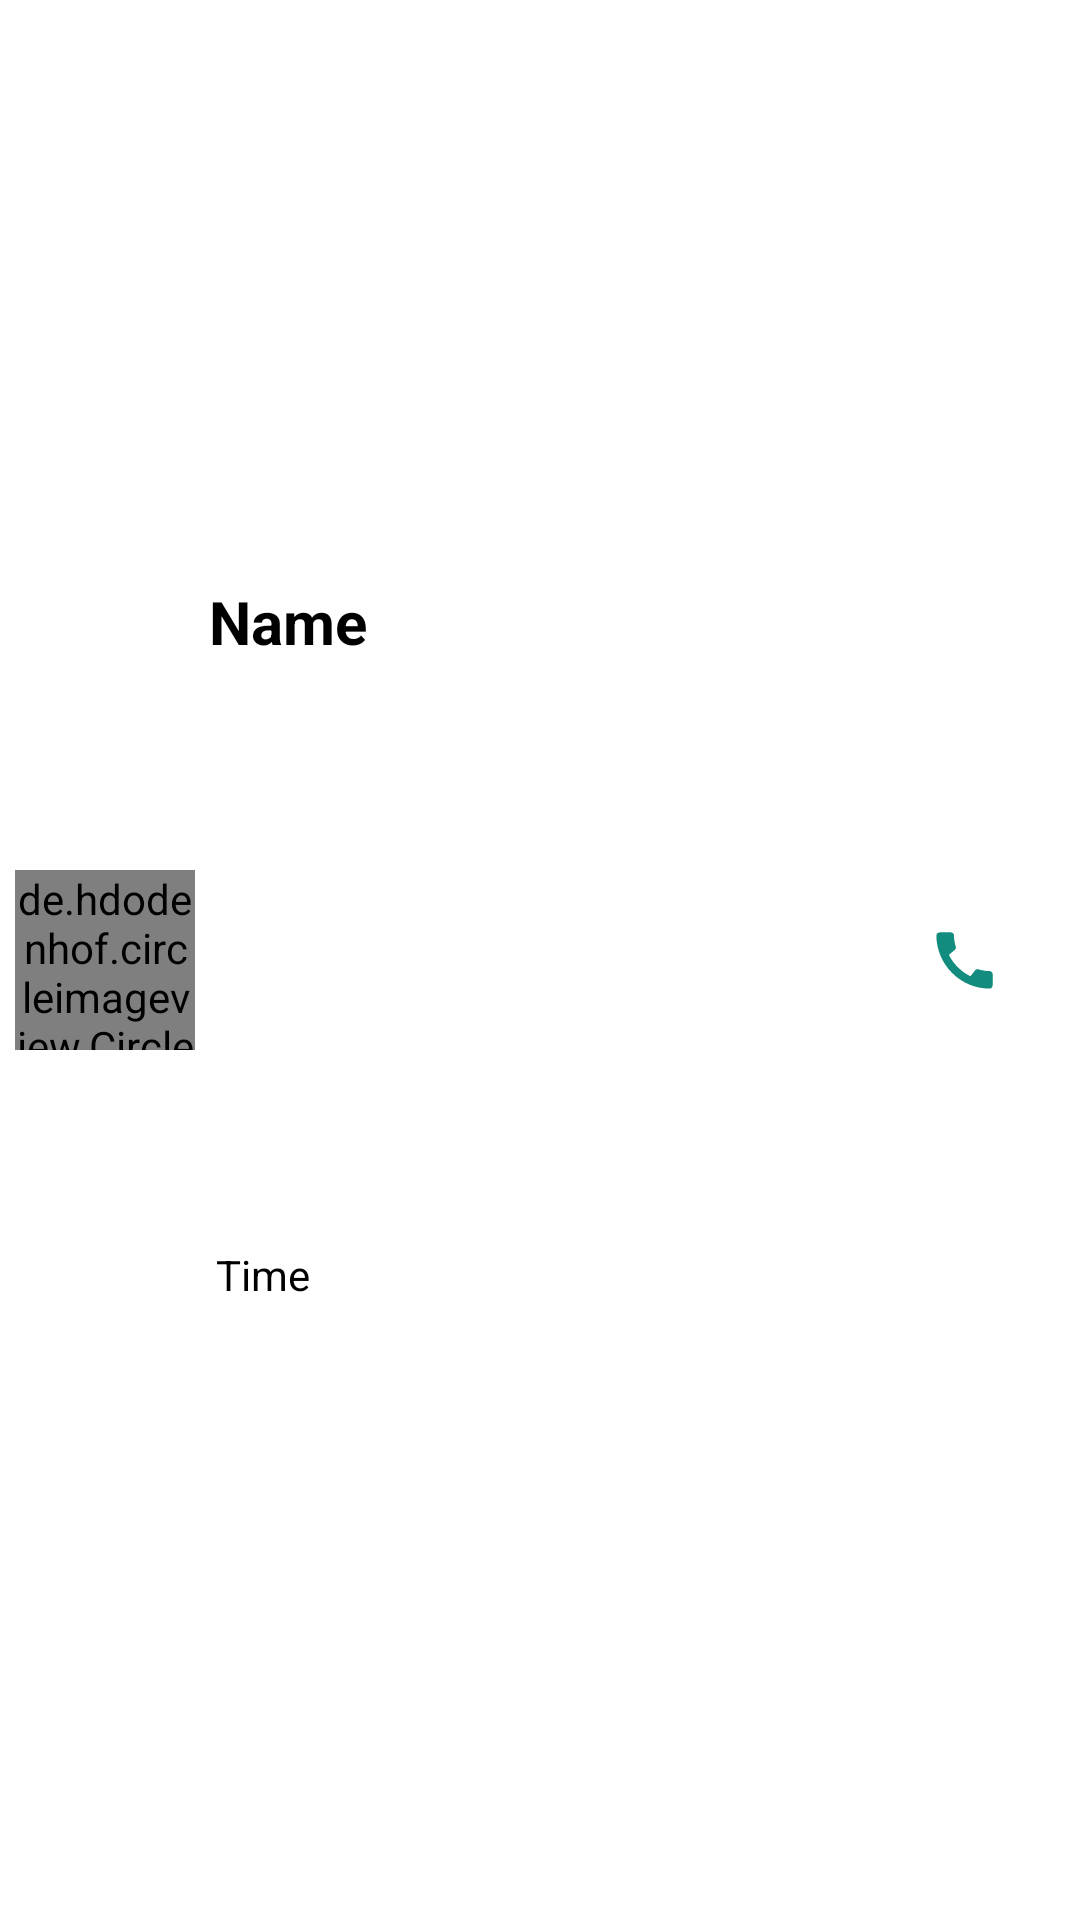

Where to tap for icons on this 1080w x 1920h app screen, as [x,y]:
call: [964,960]
